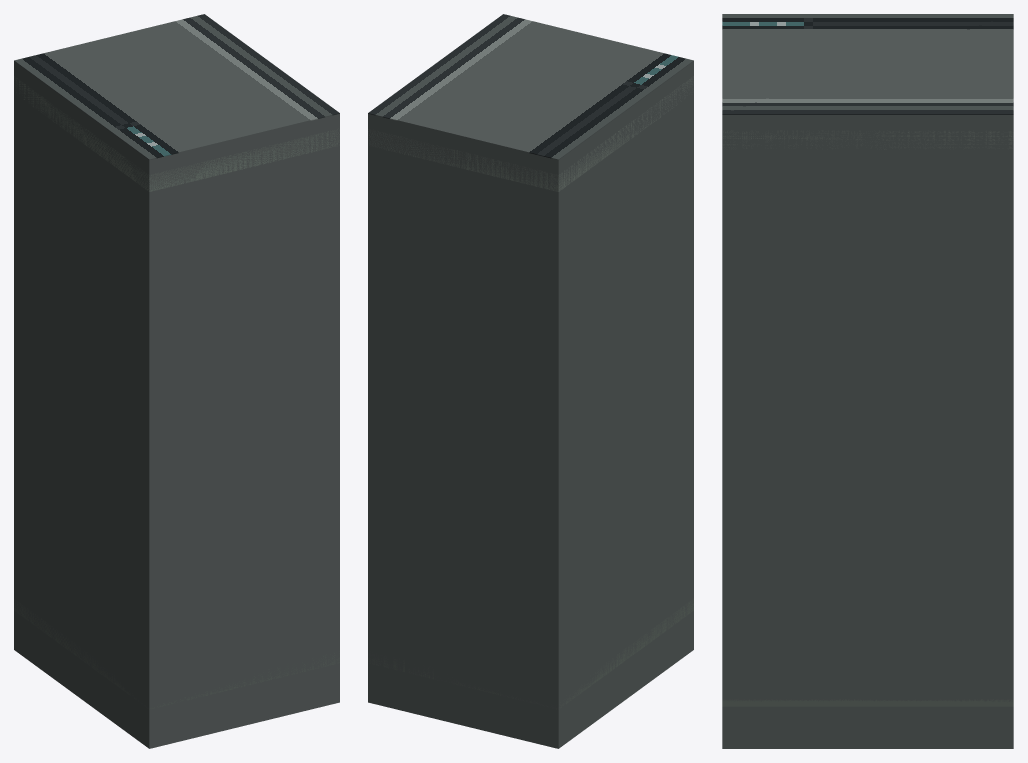
The model's file is CMU3DInteriorVehicleAPCFront3.glb.
3 renders of one model, left to right at view 1: azimuth 30°, elevation 25°; view 2: azimuth 150°, elevation 25°; view 3: azimuth 270°, elevation 25°, orthographic. The views are drawn at different scales.
Parts seen in each view (by area): view 1: cabin bulkhead, cabin bulkhead source finish, upper armor trim, lower armor trim; view 2: cabin bulkhead, cabin bulkhead source finish, upper armor trim, lower armor trim; view 3: cabin bulkhead, cabin bulkhead source finish, lower armor trim, upper armor trim.
Boxes of the visible parts, x1=… form: cabin bulkhead: x1=14, y1=61, x2=339, y2=748; cabin bulkhead source finish: x1=14, y1=14, x2=339, y2=160; upper armor trim: x1=14, y1=76, x2=339, y2=191; lower armor trim: x1=14, y1=599, x2=339, y2=709; cabin bulkhead: x1=368, y1=61, x2=693, y2=748; cabin bulkhead source finish: x1=368, y1=14, x2=693, y2=160; upper armor trim: x1=368, y1=76, x2=693, y2=191; lower armor trim: x1=368, y1=598, x2=693, y2=709; cabin bulkhead: x1=722, y1=115, x2=1013, y2=748; cabin bulkhead source finish: x1=722, y1=14, x2=1013, y2=114; lower armor trim: x1=722, y1=699, x2=1013, y2=706; upper armor trim: x1=723, y1=130, x2=1013, y2=149.
Bounding box in the file's own units: 0.8125 × 2.4 × 1.
Materials: 4 (1 with a texture image).
